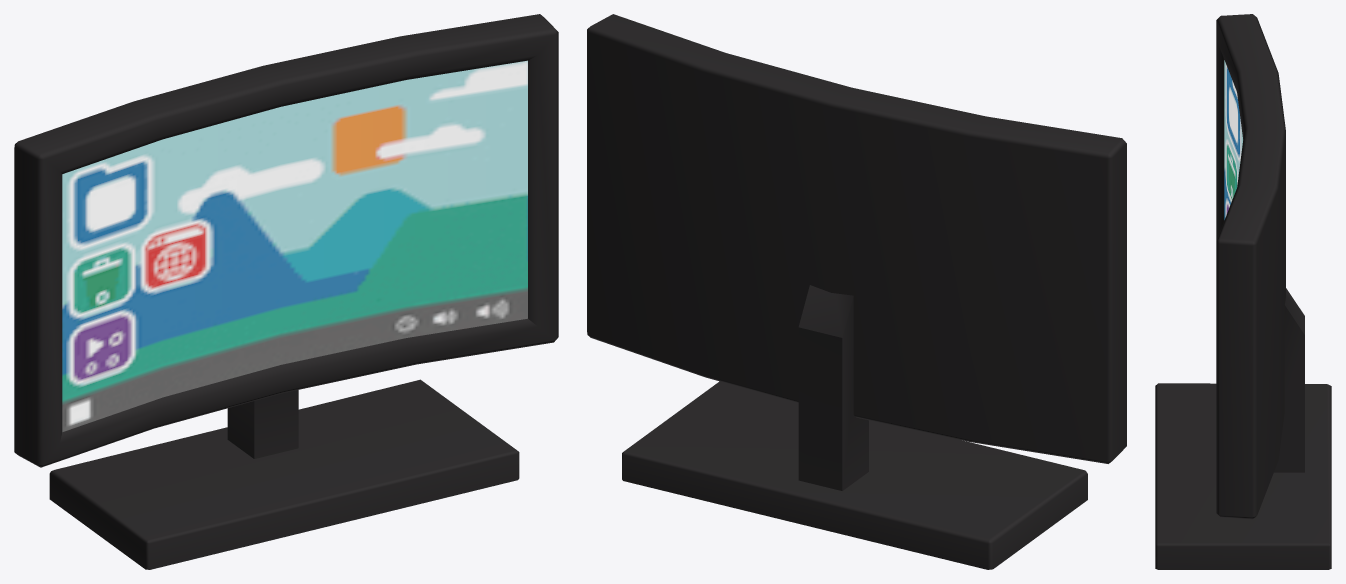
Rendered from monitor-02.glb.
The picture shows the model from 3 angles, left to right: view 1: azimuth 30°, elevation 25°; view 2: azimuth 150°, elevation 25°; view 3: azimuth 270°, elevation 25°; orthographic projection. The views are drawn at different scales.
Visible parts, largest first — view 1: Monitor_02; view 2: Monitor_02; view 3: Monitor_02.
Boxes of the visible parts, box(x1,y1,x2,y2) form: Monitor_02: box(14, 14, 558, 569); Monitor_02: box(587, 14, 1126, 569); Monitor_02: box(1155, 14, 1331, 569).
Size of the model in its own units: 0.7096 by 0.5208 by 0.2299.
Materials: 2 (2 with a texture image).
